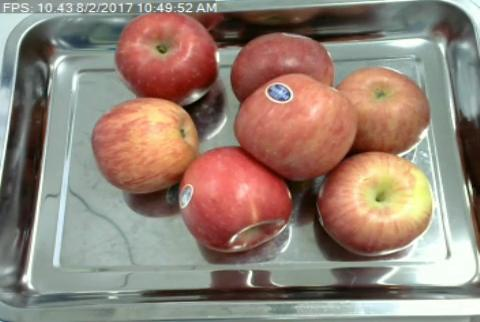apple: (233, 75, 359, 177), (179, 145, 293, 253), (320, 153, 434, 257), (91, 98, 198, 191), (116, 14, 217, 105), (345, 66, 431, 153), (230, 34, 334, 91)
